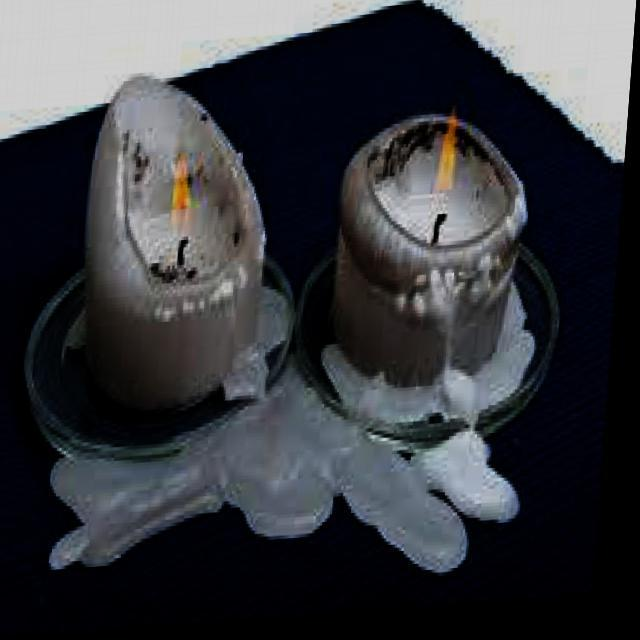Fire: (429, 105, 474, 205), (166, 152, 209, 248)
